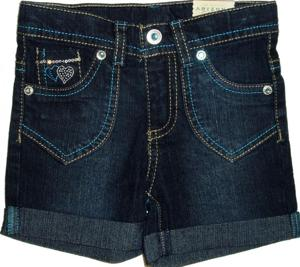C_shorts: (1, 3, 300, 266)
